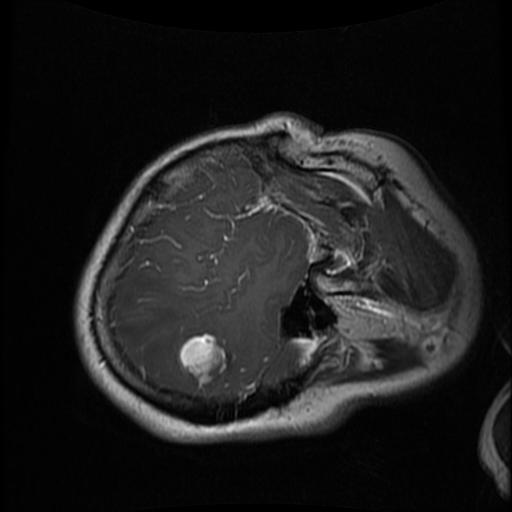glioma: (178, 333, 228, 387)
